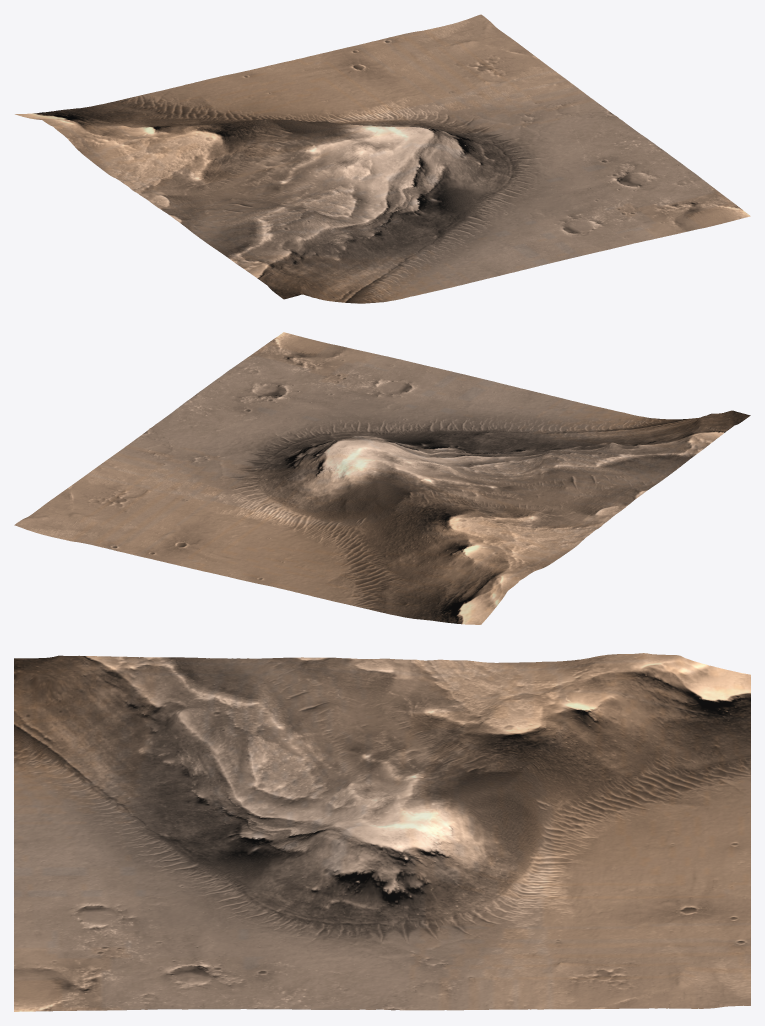
3 renders of one model, top to bottom at view 1: azimuth 30°, elevation 25°; view 2: azimuth 150°, elevation 25°; view 3: azimuth 270°, elevation 25°, orthographic. The views are drawn at different scales.
Bounding box in the file's own units: 1200 × 86.32 × 1200.
1 material, 1 textured.
